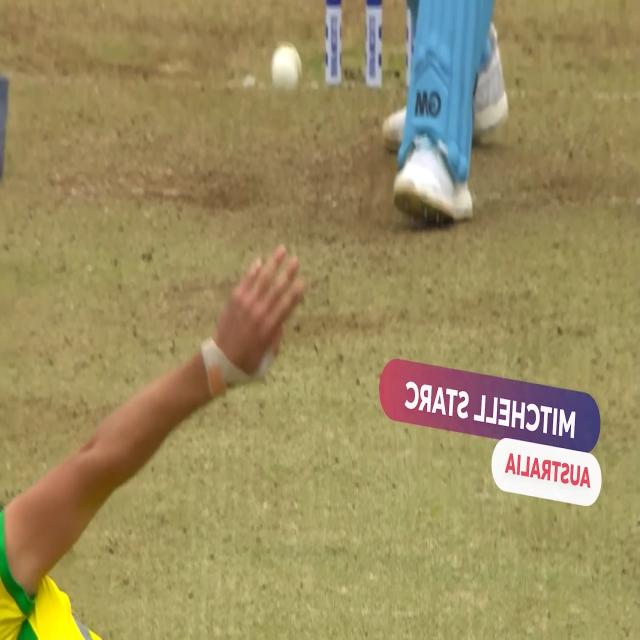ball: (261, 36, 308, 97)
